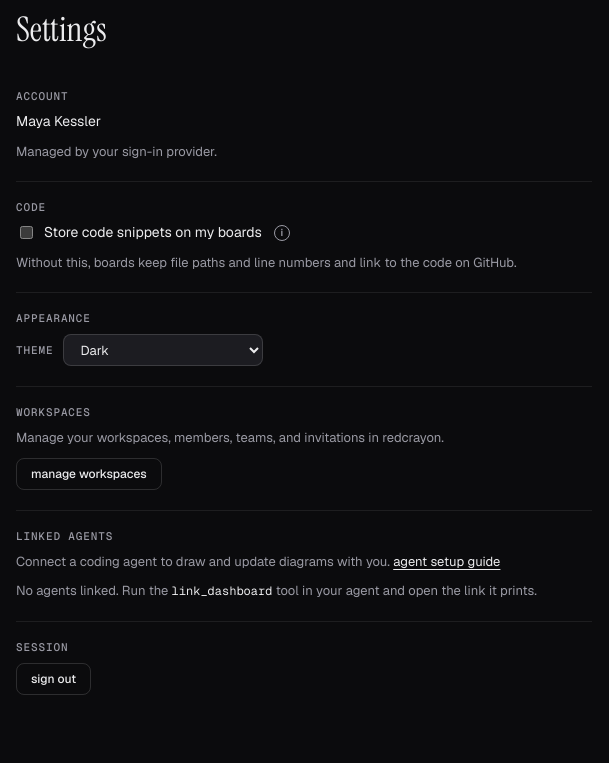
Test: settings page › code snippet consent › shows the refusal verbatim and puts the box back
Click the checkbox labelled "Store code snippets on my boards".
click(26, 233)  # box x1=20 y1=226 x2=33 y2=239
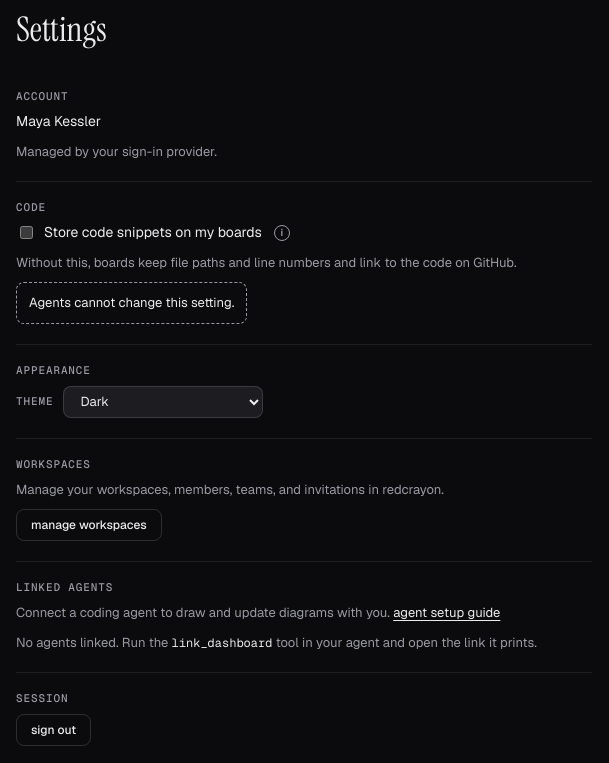
Now the message reads "Agents cannot change this setting.", box x1=29 y1=294 x2=234 y2=311
